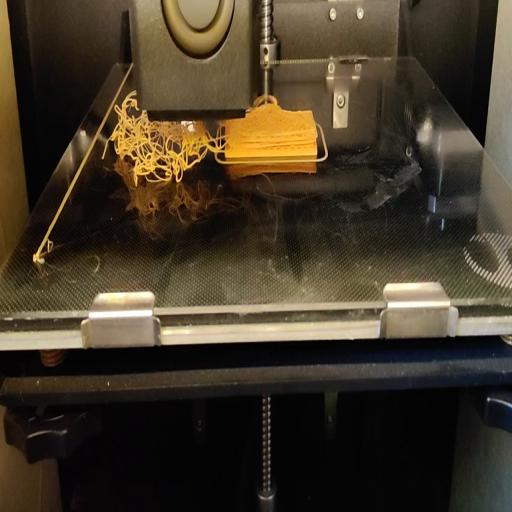spaghetti: (153, 118, 214, 182), (106, 90, 138, 184), (138, 111, 154, 188)
